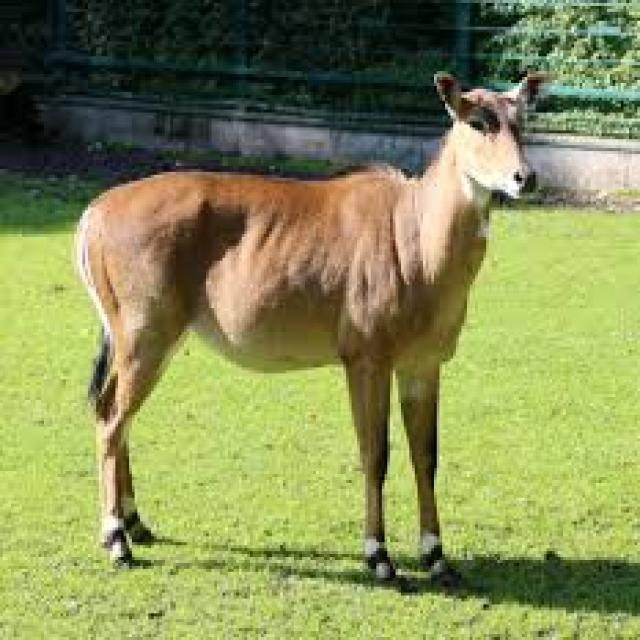objects: (48, 45, 576, 611)
